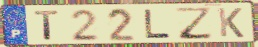2: (106, 7, 138, 42), (69, 8, 100, 42)
K: (216, 7, 246, 39)
L: (142, 9, 173, 40)
T: (33, 10, 61, 41)
Z: (175, 6, 215, 40)
